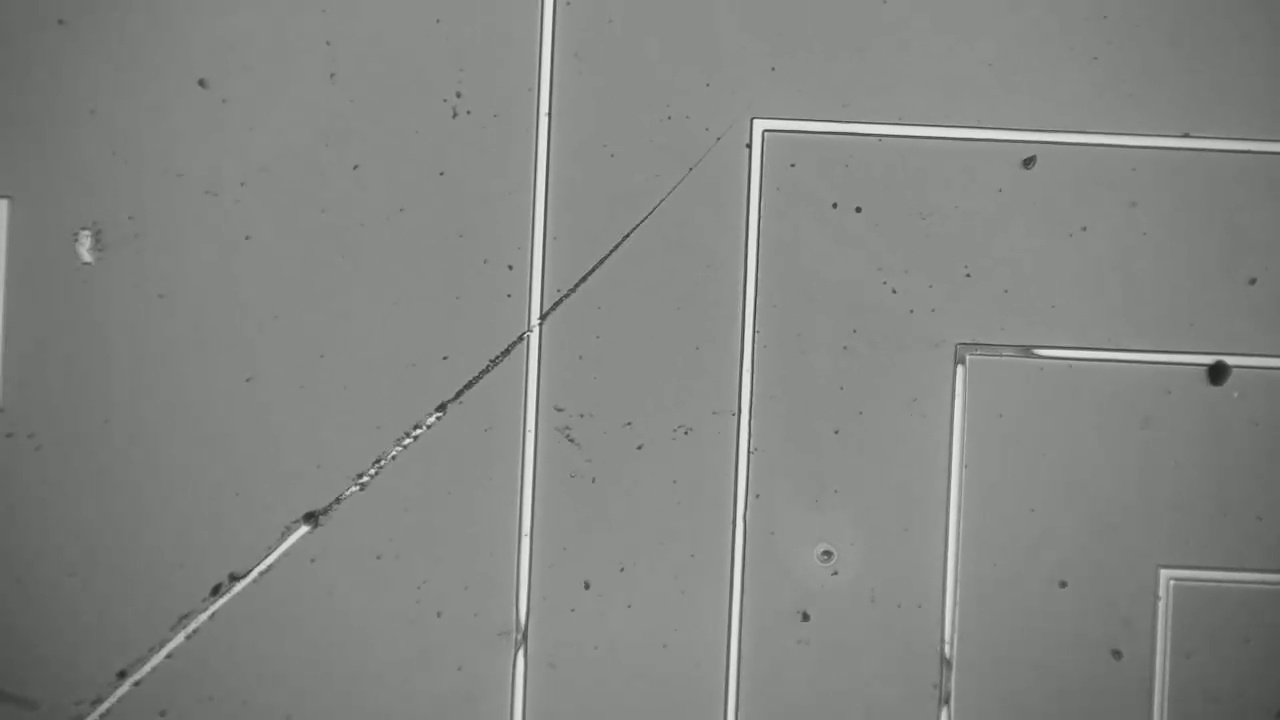gray_line: (944, 336, 1057, 368), (930, 642, 971, 719), (503, 603, 541, 664), (946, 329, 975, 383)
scratch: (78, 143, 736, 719)
stains_enbedded: (1189, 334, 1251, 413)
